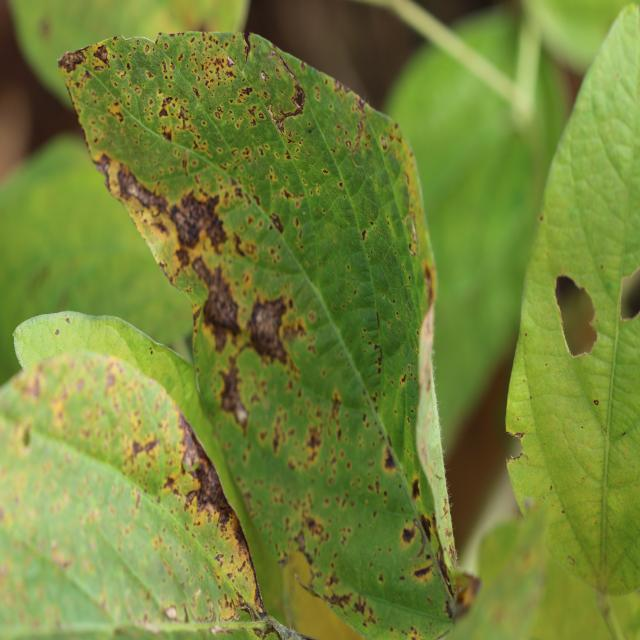Bacterial_Blight: (251, 288, 303, 371), (179, 434, 230, 517), (554, 274, 599, 356), (199, 270, 242, 344), (173, 190, 224, 250), (115, 164, 164, 216), (271, 78, 307, 129), (451, 569, 483, 619), (619, 268, 640, 320), (504, 425, 531, 464), (128, 435, 161, 463), (434, 543, 453, 590), (57, 47, 87, 73), (324, 586, 354, 610), (305, 427, 323, 460), (92, 153, 113, 181), (404, 213, 418, 251), (423, 265, 435, 309), (328, 393, 342, 426), (106, 101, 125, 124), (400, 522, 418, 545), (293, 528, 308, 554), (382, 445, 396, 471), (420, 512, 433, 539), (270, 213, 284, 234), (39, 17, 52, 38), (411, 476, 421, 500), (161, 127, 173, 142), (238, 86, 253, 98), (158, 105, 169, 118), (400, 374, 407, 386), (361, 229, 367, 241), (593, 399, 599, 406)
Soybean: (59, 33, 477, 639)
